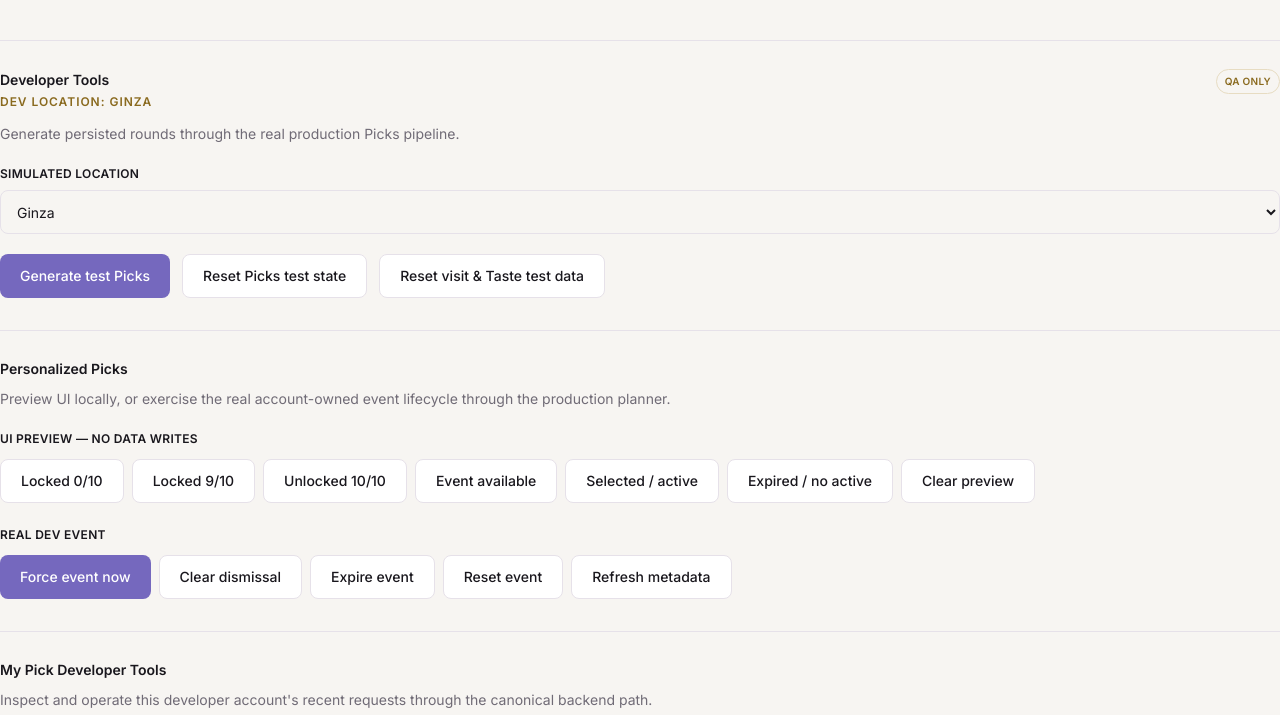
Test: DeveloperTools › updates a canonical override and generates a persisted test round
This screenshot has width=1280, height=715.
Select "Shinjuku" in the dropdown labelled "SIMULATED LOCATION" at (640,212), box [0, 190, 1279, 234]
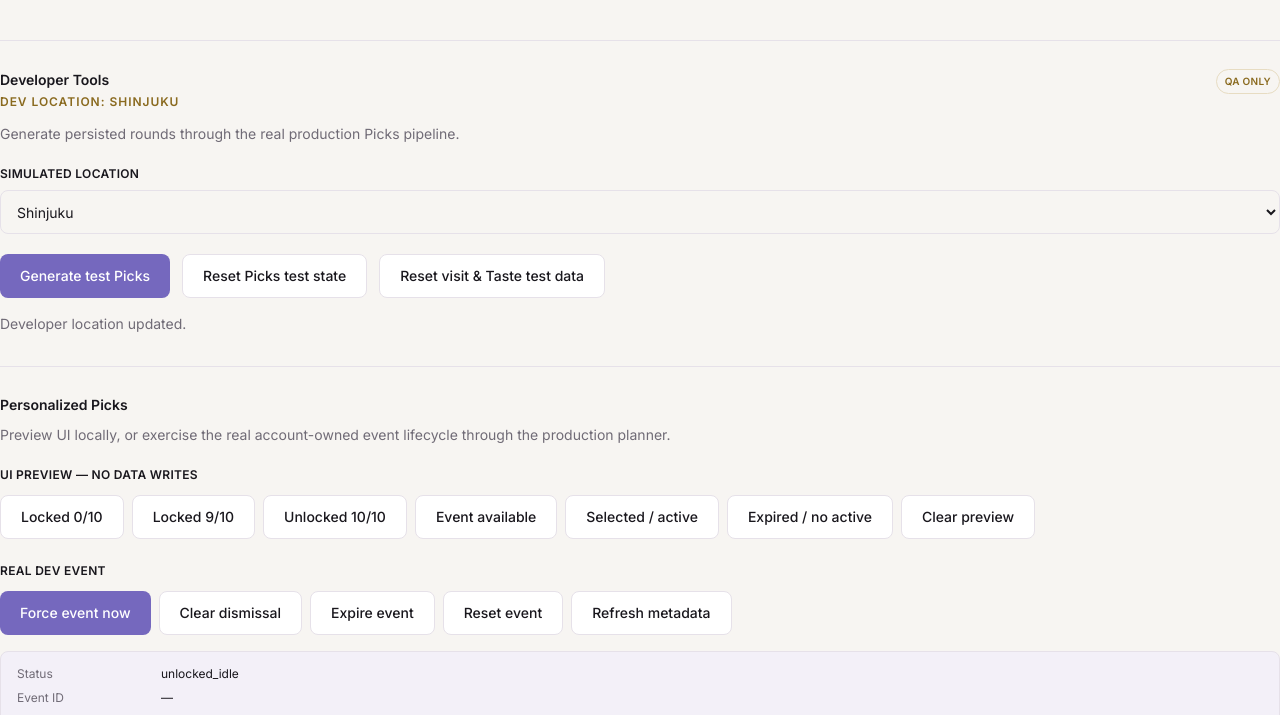
Click the button "Generate test Picks" at (85,276), box [0, 254, 170, 298]
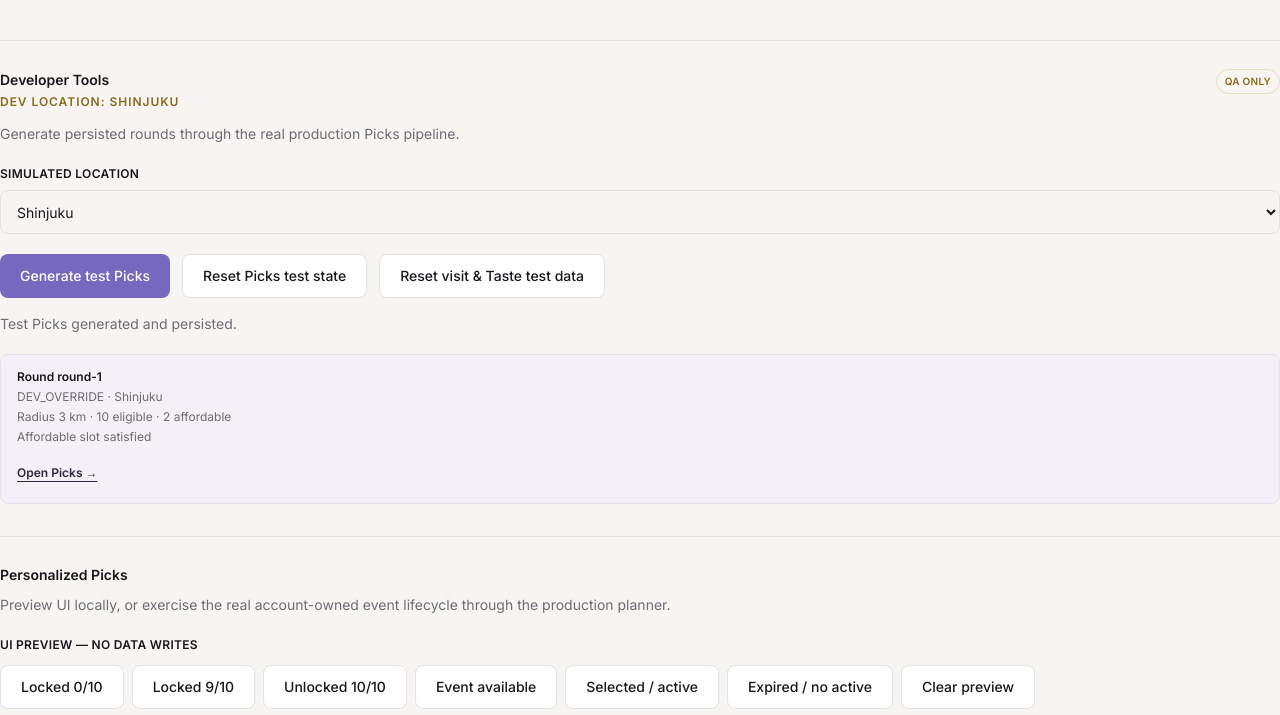
Check: the text "Round round-1" is shown, box [17, 369, 102, 384]
Check: the text "Radius 3 km · 10 eligible · 2 affordable" is shown, box [17, 409, 231, 424]
